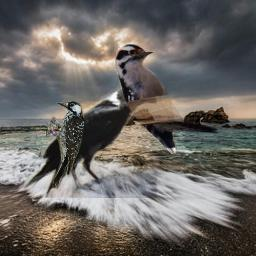Crow: (18, 79, 157, 198)
Woodpecker: (115, 44, 218, 154), (46, 101, 84, 189)
